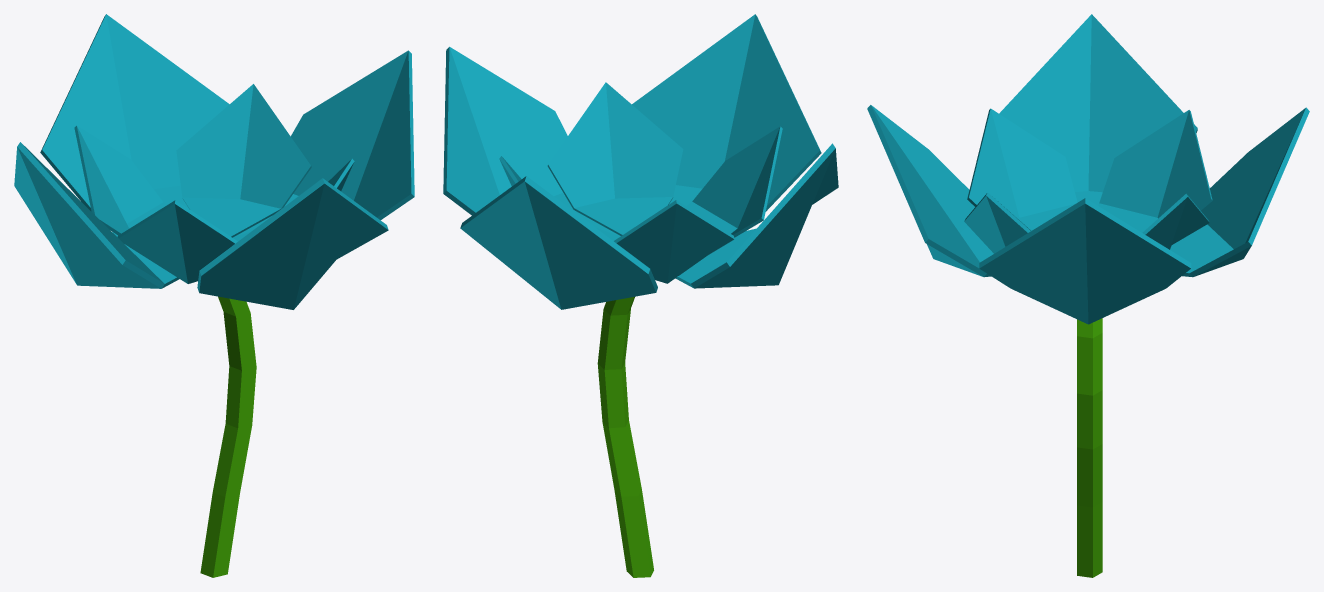
File: fleur3.fbx
3 renders of one model, left to right at view 1: azimuth 30°, elevation 25°; view 2: azimuth 150°, elevation 25°; view 3: azimuth 270°, elevation 25°, orthographic. The views are drawn at different scales.
Visible parts, largest first — view 1: Plane.008, Cylinder.002; view 2: Plane.008, Cylinder.002; view 3: Plane.008, Cylinder.002.
Boxes of the visible parts, <box> form: Plane.008: <box>14,14,414,309</box>; Cylinder.002: <box>200,296,256,577</box>; Plane.008: <box>443,14,838,309</box>; Cylinder.002: <box>597,296,653,577</box>; Plane.008: <box>867,14,1309,324</box>; Cylinder.002: <box>1077,318,1102,577</box>.
Bounding box in the file's own units: 449 × 522 × 449.
Materials: 1 (1 with a texture image).
